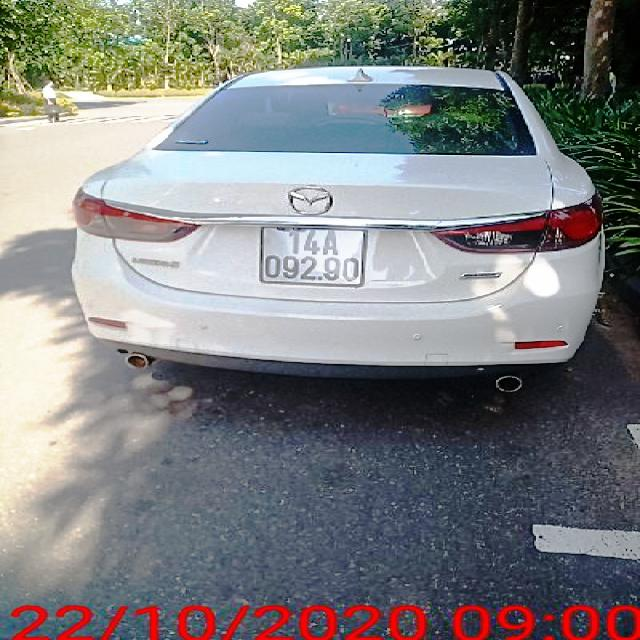license_plate: (259, 226, 368, 290)
